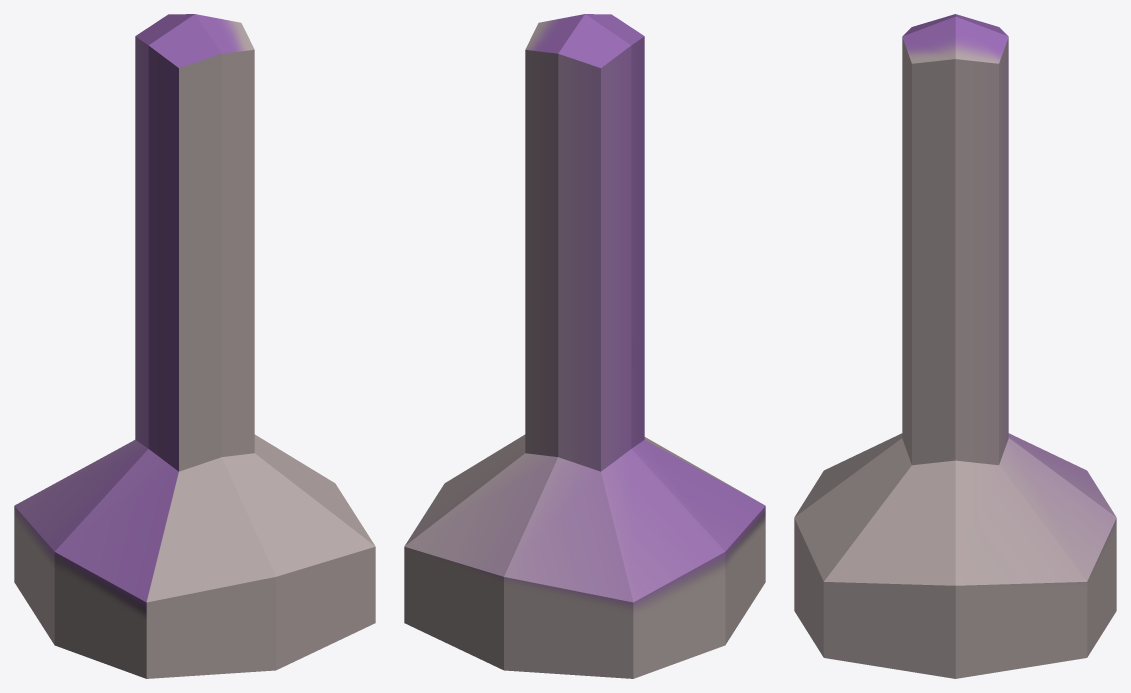
Rendered from dropper.gltf.
3 renders of one model, left to right at view 1: azimuth 30°, elevation 25°; view 2: azimuth 150°, elevation 25°; view 3: azimuth 270°, elevation 25°, orthographic.
Parts seen in each view (by area): view 1: ダクト（仮）; view 2: ダクト（仮）; view 3: ダクト（仮）.
Part boxes in pixels (x1=…): ダクト（仮）: x1=14, y1=14, x2=375, y2=678; ダクト（仮）: x1=404, y1=14, x2=765, y2=678; ダクト（仮）: x1=794, y1=14, x2=1116, y2=678.
Size of the model in its own units: 8.34 by 16.95 by 8.34.
1 material, 1 textured.
